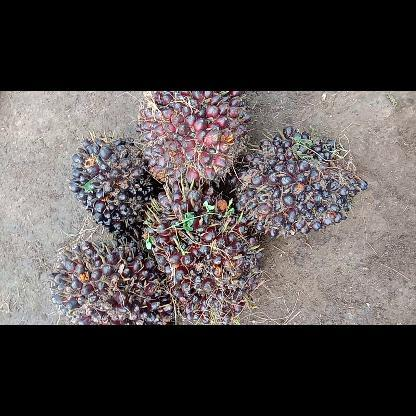TBS mentah: (142, 182, 266, 324), (229, 124, 369, 240), (133, 91, 257, 195), (47, 238, 178, 324), (66, 130, 158, 246)
